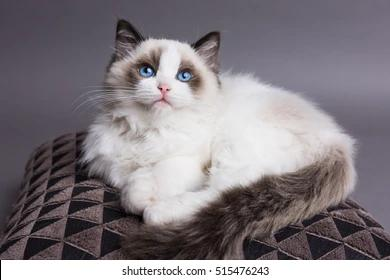ragdoll: (97, 8, 230, 144)
